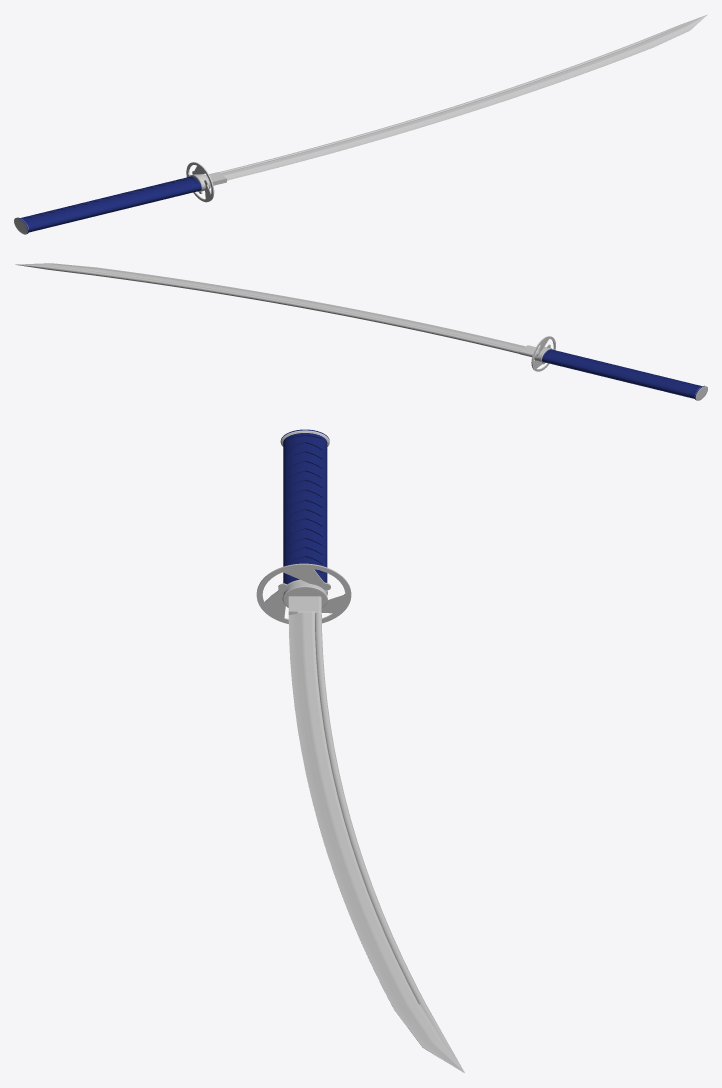
Rendered from Sword.fbx.
3 views of the same model, one above another, from view 1: azimuth 30°, elevation 25°; view 2: azimuth 150°, elevation 25°; view 3: azimuth 270°, elevation 25° (orthographic). The views are drawn at different scales.
Visible parts, largest first — view 1: Cube, manche_3, anneau; view 2: Cube, manche_3, anneau, manche_4; view 3: Cube, manche_3, anneau.
Boxes of the visible parts, x1,y1,x2,y2 form: Cube: (206,14,707,185); manche_3: (14,176,201,234); anneau: (186,162,214,202); Cube: (15,263,538,357); manche_3: (542,349,707,400); anneau: (531,336,555,371); manche_4: (534,346,707,400); Cube: (288,596,464,1072); manche_3: (280,429,329,584); anneau: (256,563,351,623).
Bounding box in the file's own units: 678 × 30.6 × 94.49.
